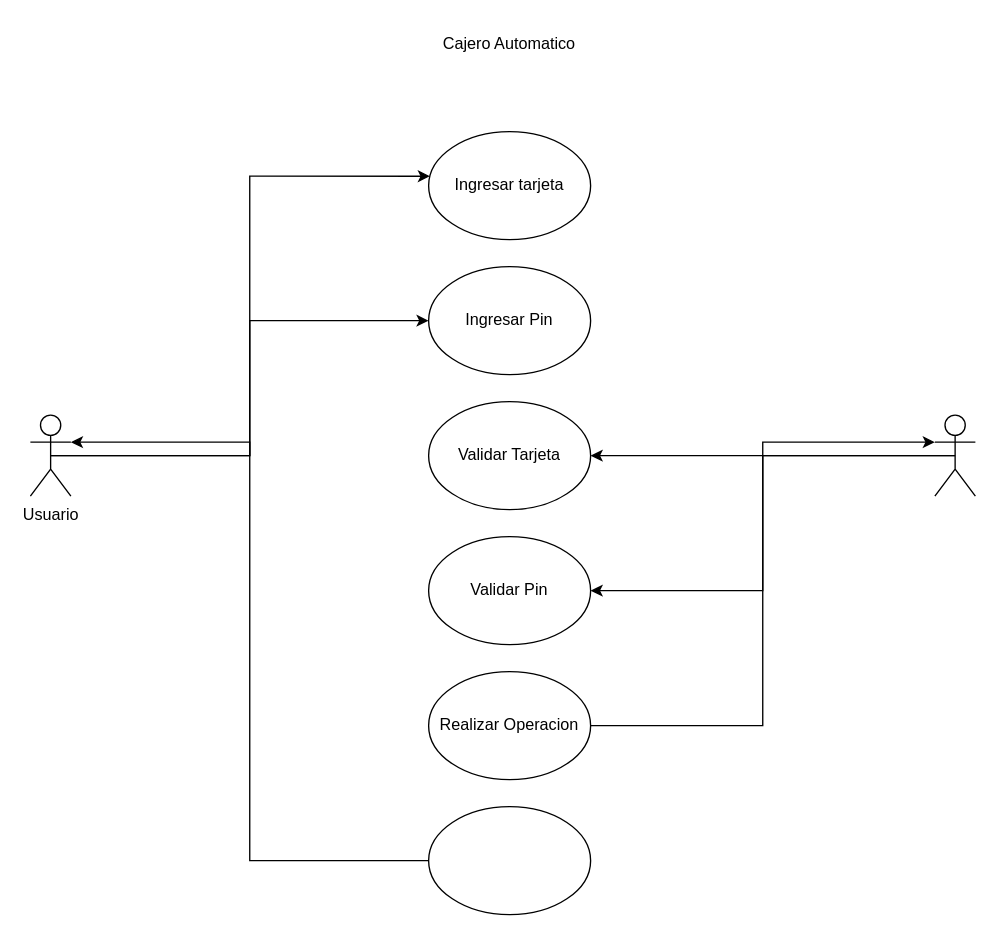
Image size: 1002x938. Some labels were removed from this diagram. The centre of each missing label's shape, as x and y in pixels:
"Banco" belongs at [954,455].
"Retirar tarjeta" belongs at [509,860].
